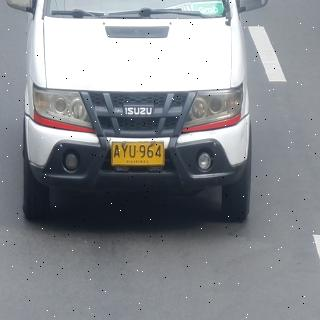license: (113, 143, 165, 167)
